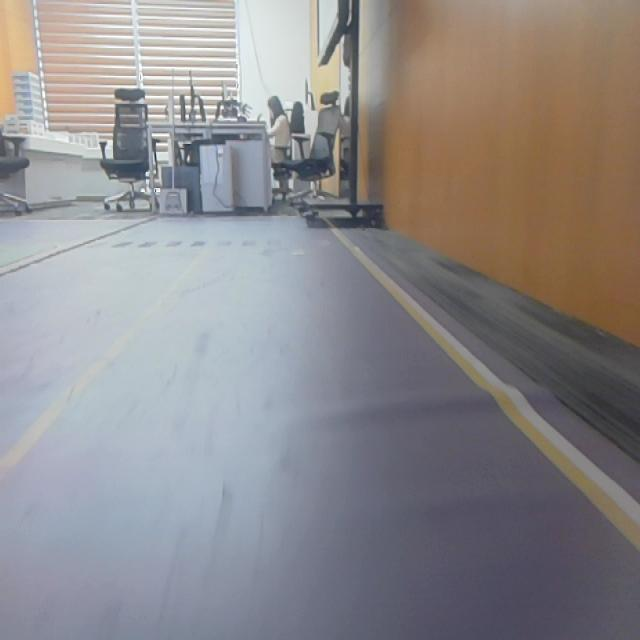left_lane: (1, 250, 209, 481)
right_lane: (318, 214, 640, 551)
